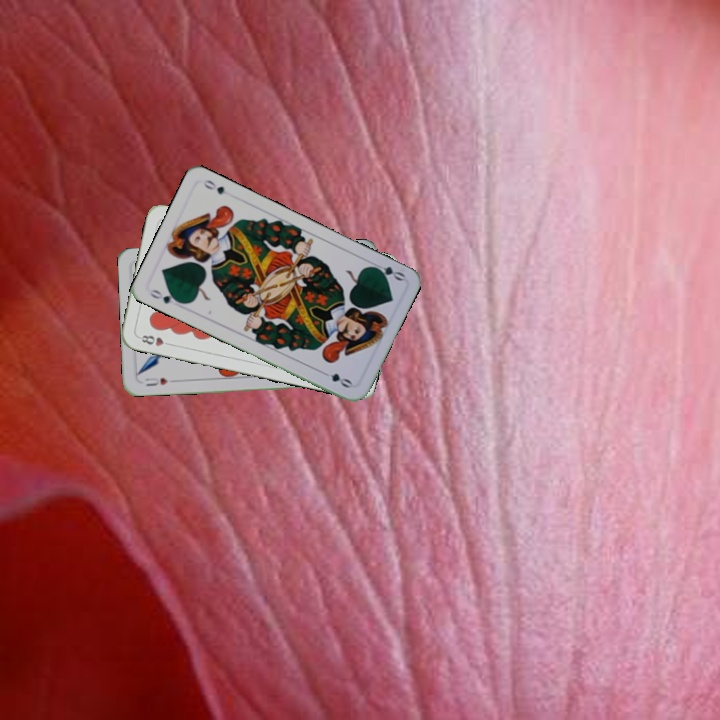GO: (367, 258, 407, 284), (146, 285, 185, 306)
H8: (135, 331, 175, 349)
HU: (141, 373, 171, 389)
